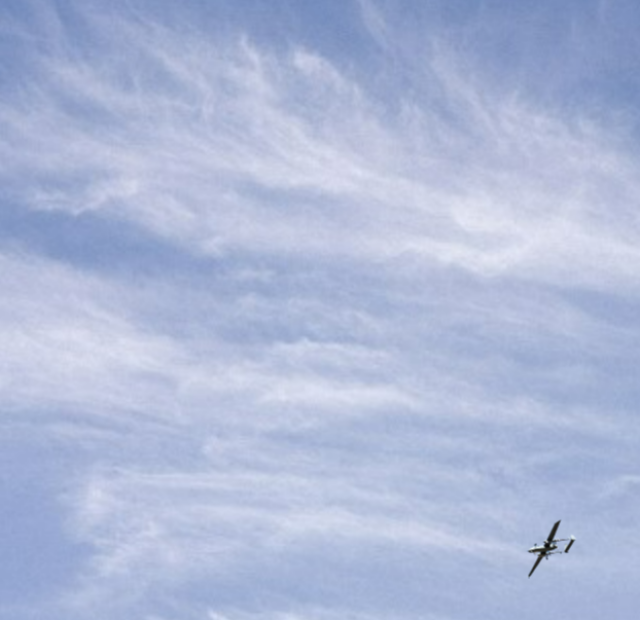military drone: (526, 519, 576, 578)
